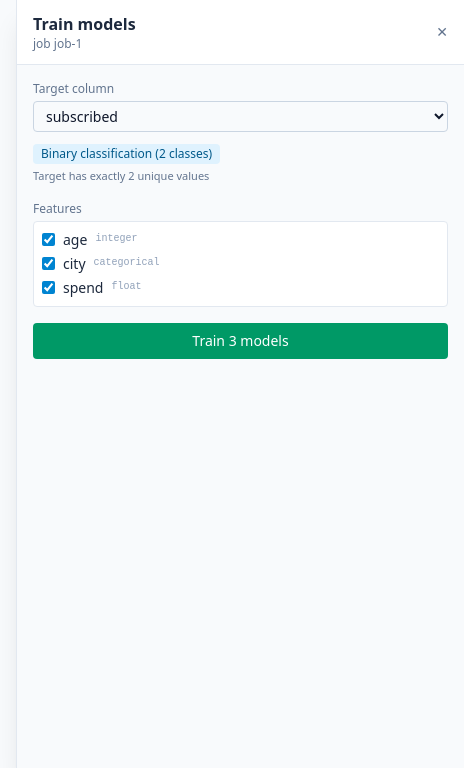
Test: MLPanel › surfaces training errors inline
Click the button with test id "ml-run": [240, 340] box [33,322,448,358]
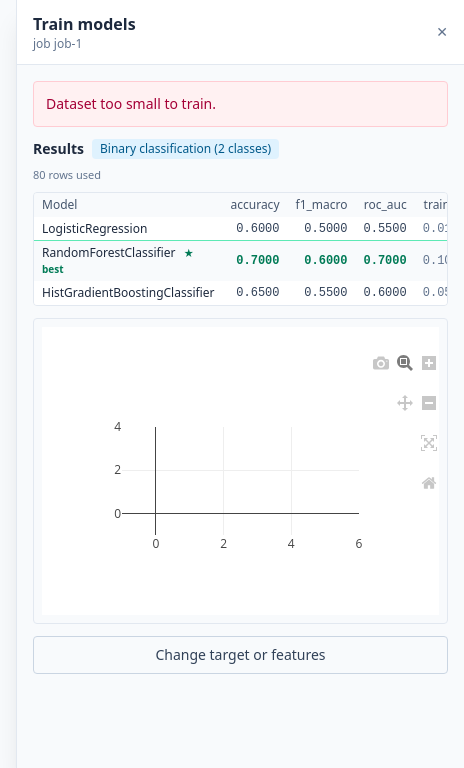
Result: the text "Dataset too small to train." is shown at [33,81,448,127]
Result: the text with test id "ml-train-error" reads "Dataset too small to train." at [46,94,216,113]
